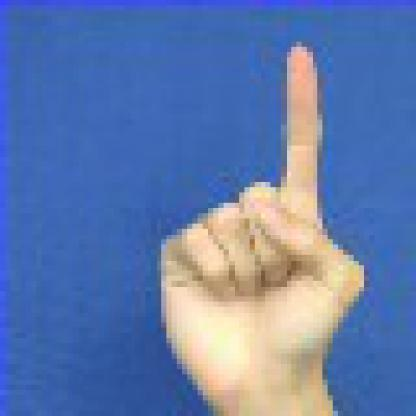one: (149, 36, 379, 400)
